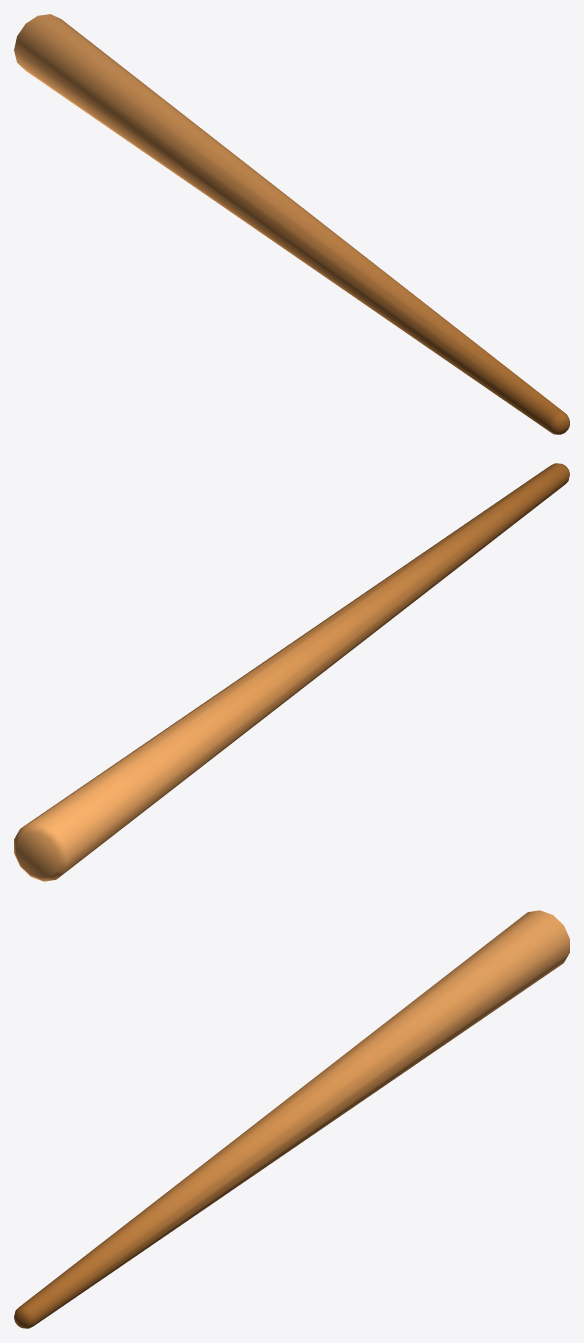
Rendered from Sushi Wood.fbx.
The picture shows the model from 3 angles, top to bottom: view 1: azimuth 30°, elevation 25°; view 2: azimuth 150°, elevation 25°; view 3: azimuth 330°, elevation 25°; orthographic projection.
Parts seen in each view (by area): view 1: Sushi Wood; view 2: Sushi Wood; view 3: Sushi Wood.
Part boxes in pixels (x1,y1,x2,y2): Sushi Wood: [14, 14, 569, 434]; Sushi Wood: [14, 463, 569, 881]; Sushi Wood: [14, 910, 569, 1328].
Bounding box in the file's own units: 0.0143 × 0.0144 × 0.2417.
